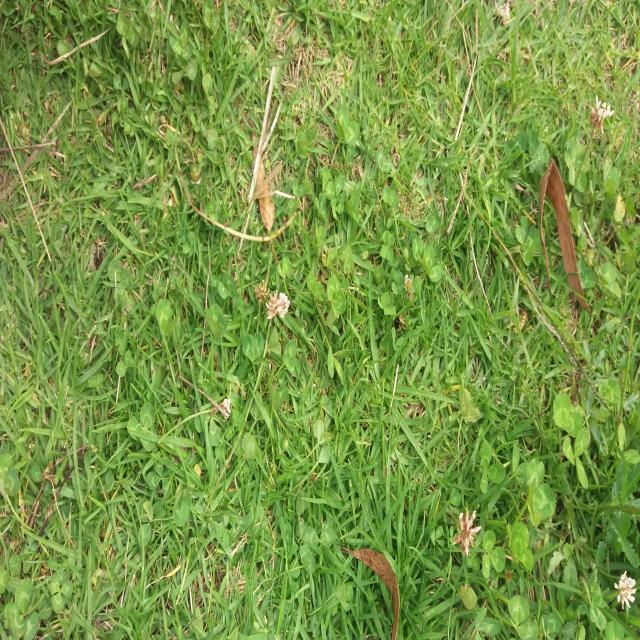Four Leaf Clover: (515, 215, 541, 266), (564, 147, 590, 193), (380, 230, 394, 260)
